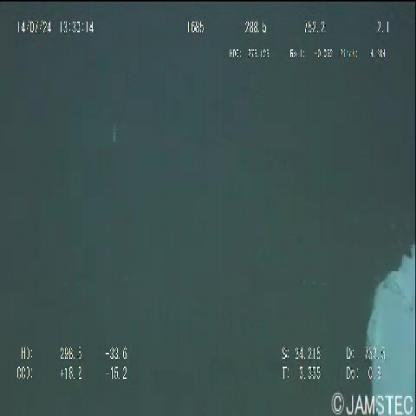Rác: (366, 242, 416, 414)
